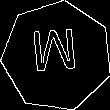M_S: (31, 29, 82, 83)
